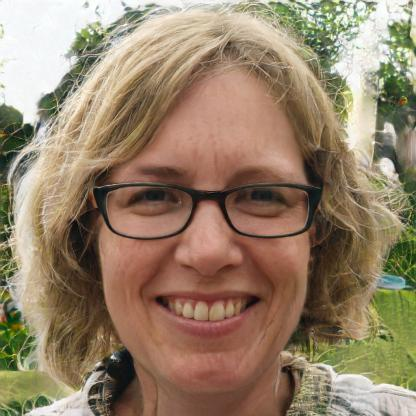glasses: (91, 176, 321, 244)
